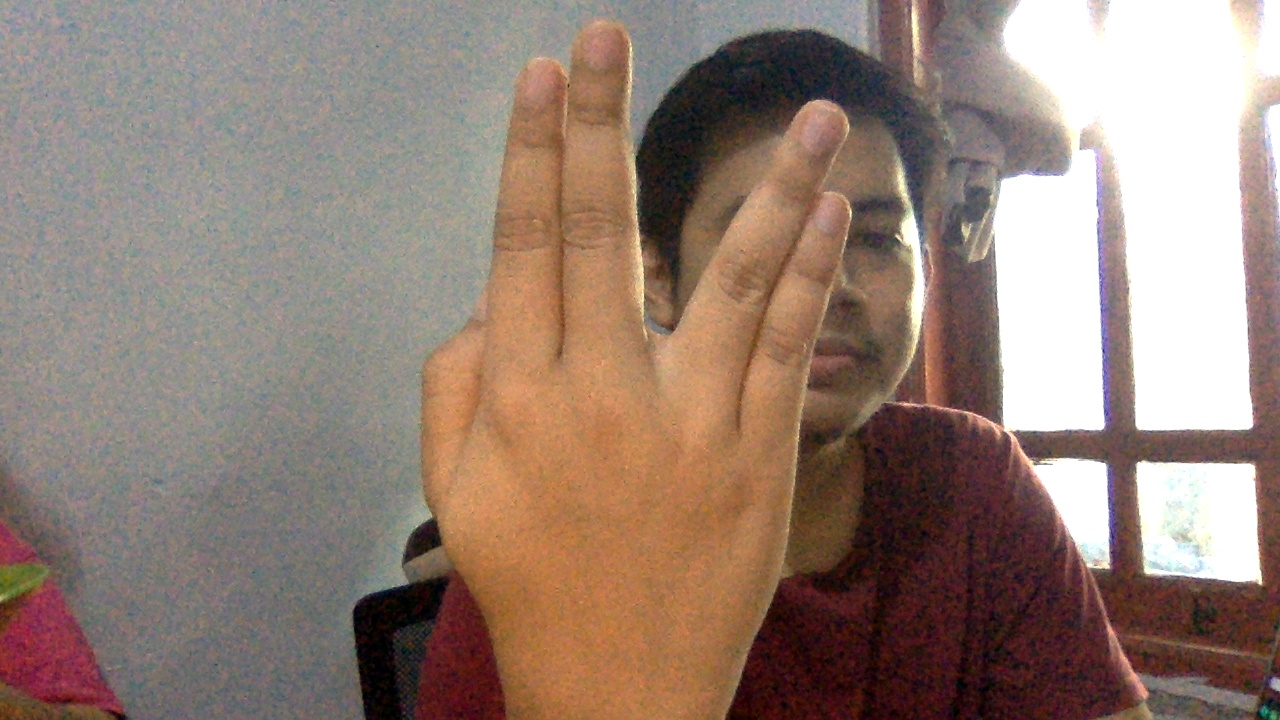livelong: (404, 2, 865, 715)
